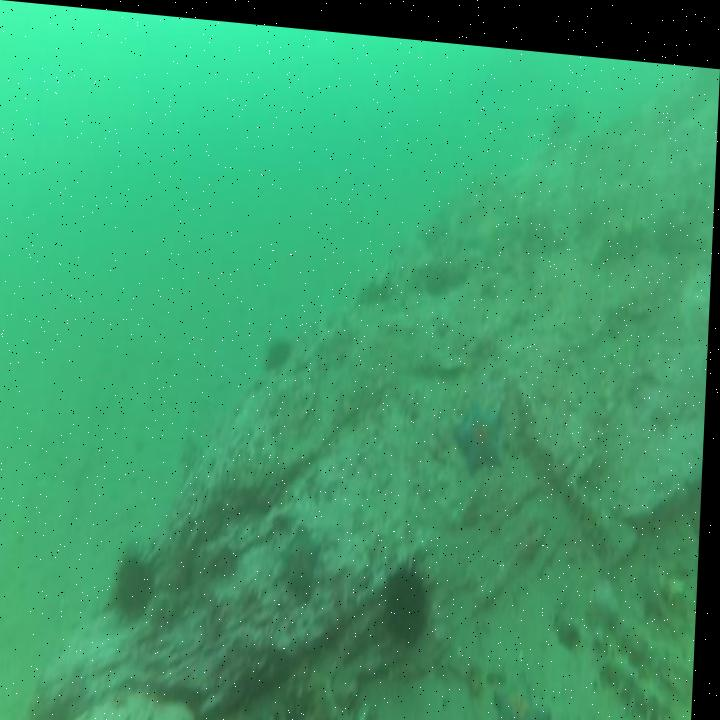echinus: (391, 561, 434, 635), (119, 551, 161, 613), (269, 330, 291, 366)
holothurian: (609, 638, 685, 720), (568, 465, 617, 535), (286, 676, 336, 720), (361, 268, 398, 298)
starfish: (459, 388, 509, 464), (497, 657, 557, 720), (288, 521, 327, 579)
